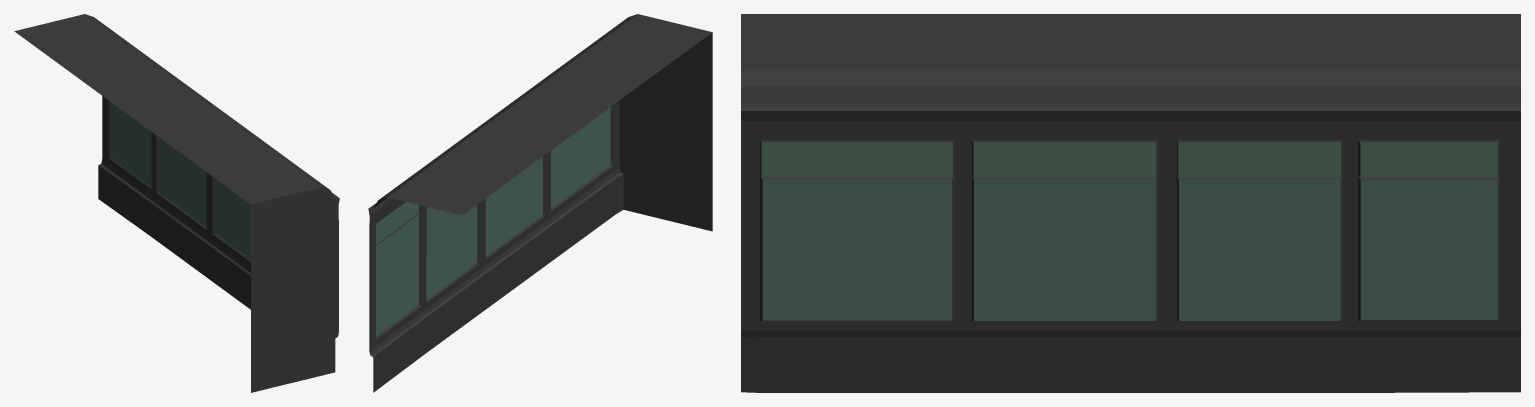
The model's file is CabinetBottom.fbx.
The picture shows the model from 3 angles, left to right: view 1: azimuth 30°, elevation 25°; view 2: azimuth 150°, elevation 25°; view 3: azimuth 270°, elevation 25°; orthographic projection. The views are drawn at different scales.
Parts seen in each view (by area): view 1: CounterBottom; view 2: CounterBottom; view 3: CounterBottom.
Boxes of the visible parts, left/top/right/bottom form: CounterBottom: left=14, top=14, right=339, bottom=392; CounterBottom: left=368, top=14, right=712, bottom=392; CounterBottom: left=741, top=14, right=1520, bottom=392.
Bounding box in the file's own units: 42.06 × 84.25 × 192.
